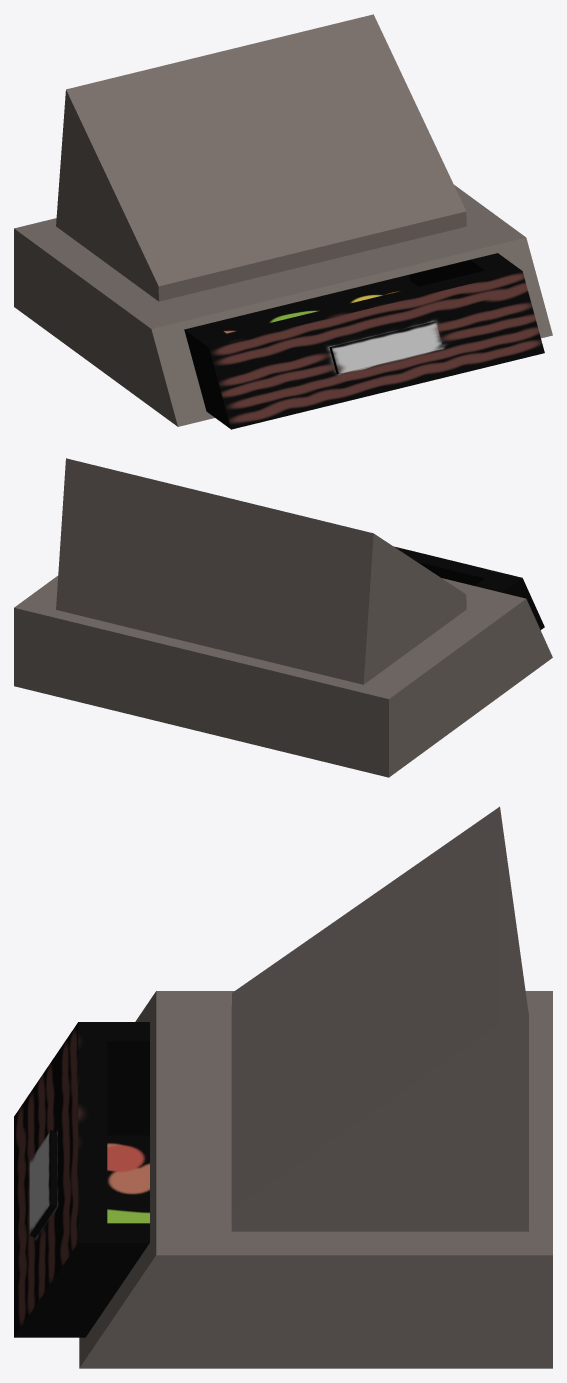
The model's file is Register.fbx.
The picture shows the model from 3 angles, top to bottom: view 1: azimuth 30°, elevation 25°; view 2: azimuth 150°, elevation 25°; view 3: azimuth 270°, elevation 25°; orthographic projection. The views are drawn at different scales.
Parts seen in each view (by area): view 1: Register, Register Drawer; view 2: Register, Register Drawer; view 3: Register, Register Drawer.
Part boxes in pixels (x1=…): Register: x1=14, y1=14, x2=552, y2=426; Register Drawer: x1=184, y1=253, x2=544, y2=429; Register: x1=14, y1=458, x2=552, y2=777; Register Drawer: x1=394, y1=546, x2=544, y2=629; Register: x1=79, y1=806, x2=552, y2=1368; Register Drawer: x1=14, y1=1022, x2=149, y2=1337.
Bounding box in the file's own units: 154 × 87.26 × 133.
